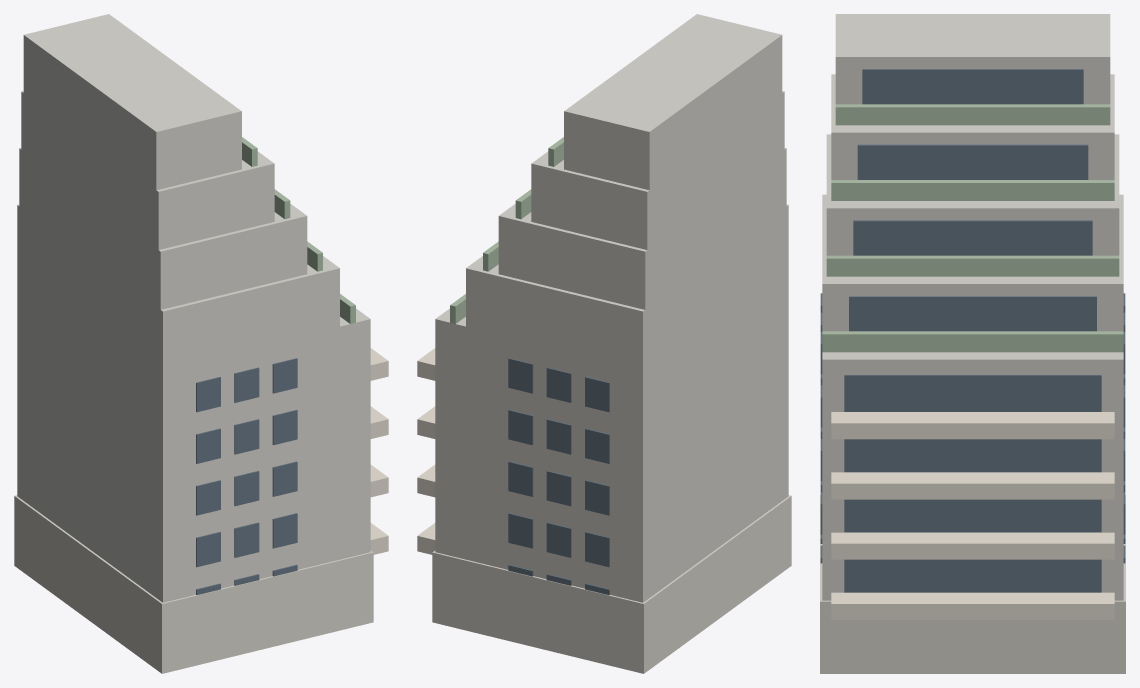
Rendered from rambla_building_12.glb.
3 views of the same model, side by side, from view 1: azimuth 30°, elevation 25°; view 2: azimuth 150°, elevation 25°; view 3: azimuth 270°, elevation 25° (orthographic). The views are drawn at different scales.
Parts seen in each view (by area): view 1: RamblaBuilding_12; view 2: RamblaBuilding_12; view 3: RamblaBuilding_12.
Part boxes in pixels (x1,y1,x2,y2): RamblaBuilding_12: (14, 14, 388, 673); RamblaBuilding_12: (417, 14, 791, 673); RamblaBuilding_12: (820, 14, 1125, 673).
Bounding box in the file's own units: 12.5 × 27.6 × 13.8.
